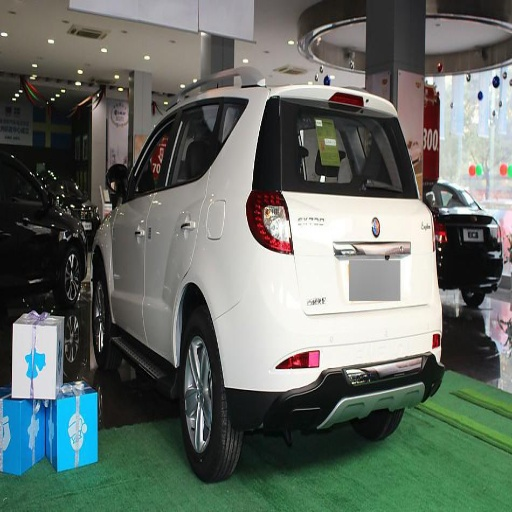back_bumper: (212, 242, 441, 428)
back_glass: (270, 100, 414, 195)
back_left_door: (148, 108, 209, 341)
tailgate: (282, 180, 428, 301)
trunk: (265, 200, 433, 337), (288, 186, 384, 231)
